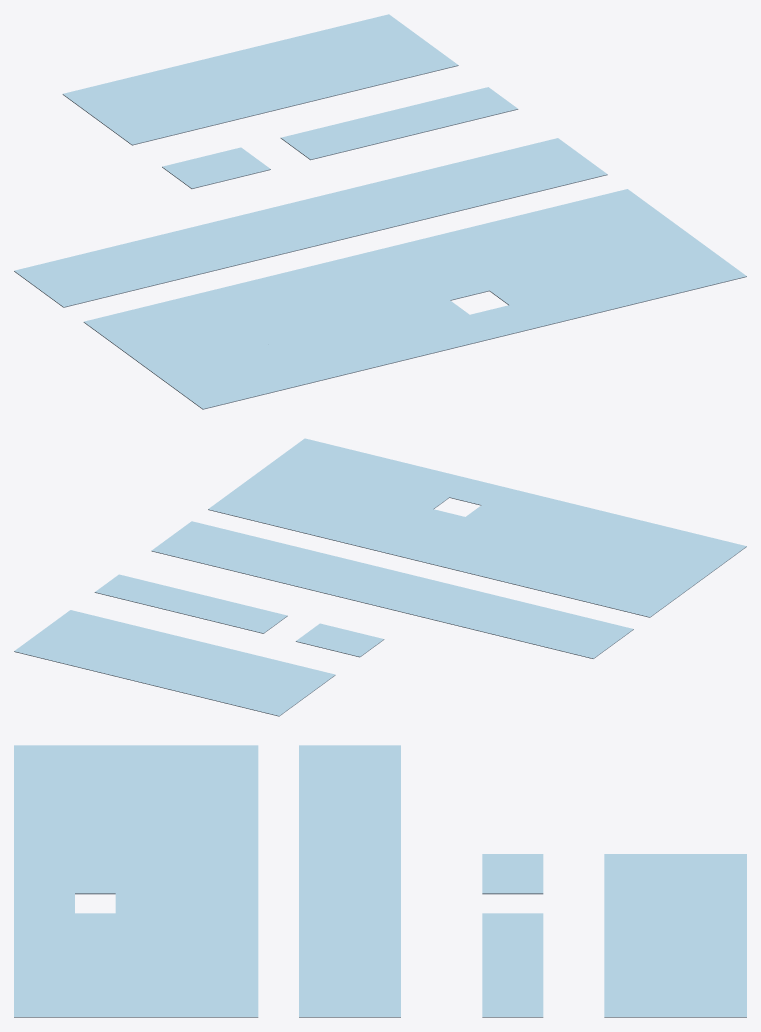
Rendered from SM_MPRR_SolarBank_00_0_LOD2.fbx.
The picture shows the model from 3 angles, top to bottom: view 1: azimuth 30°, elevation 25°; view 2: azimuth 150°, elevation 25°; view 3: azimuth 270°, elevation 25°; orthographic projection. The views are drawn at different scales.
Parts seen in each view (by area): view 1: SM_MPRR_SolarBank_00_0_LOD2; view 2: SM_MPRR_SolarBank_00_0_LOD2; view 3: SM_MPRR_SolarBank_00_0_LOD2.
Part boxes in pixels (bbox=[...]): SM_MPRR_SolarBank_00_0_LOD2: bbox=[14, 14, 746, 409]; SM_MPRR_SolarBank_00_0_LOD2: bbox=[14, 438, 746, 716]; SM_MPRR_SolarBank_00_0_LOD2: bbox=[14, 745, 746, 1017].
Bounding box in the file's own units: 6160 × 7020 × 8.
